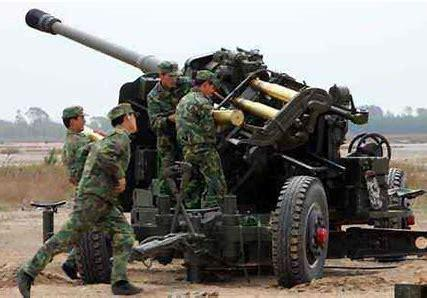MIL_SPG: (26, 10, 427, 282)
